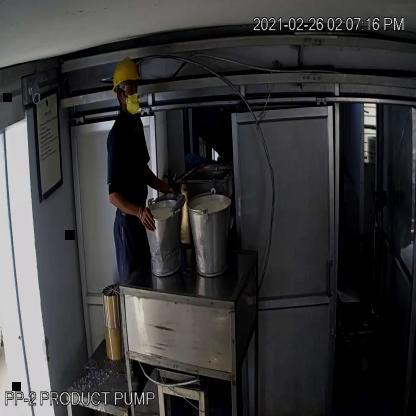helmet: (108, 48, 144, 96)
